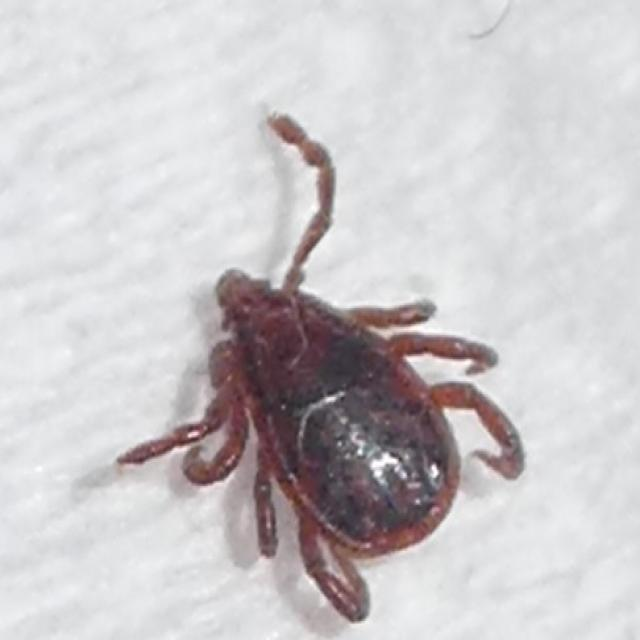Rhipicephalus Sanguineus-M: (115, 114, 525, 624)
